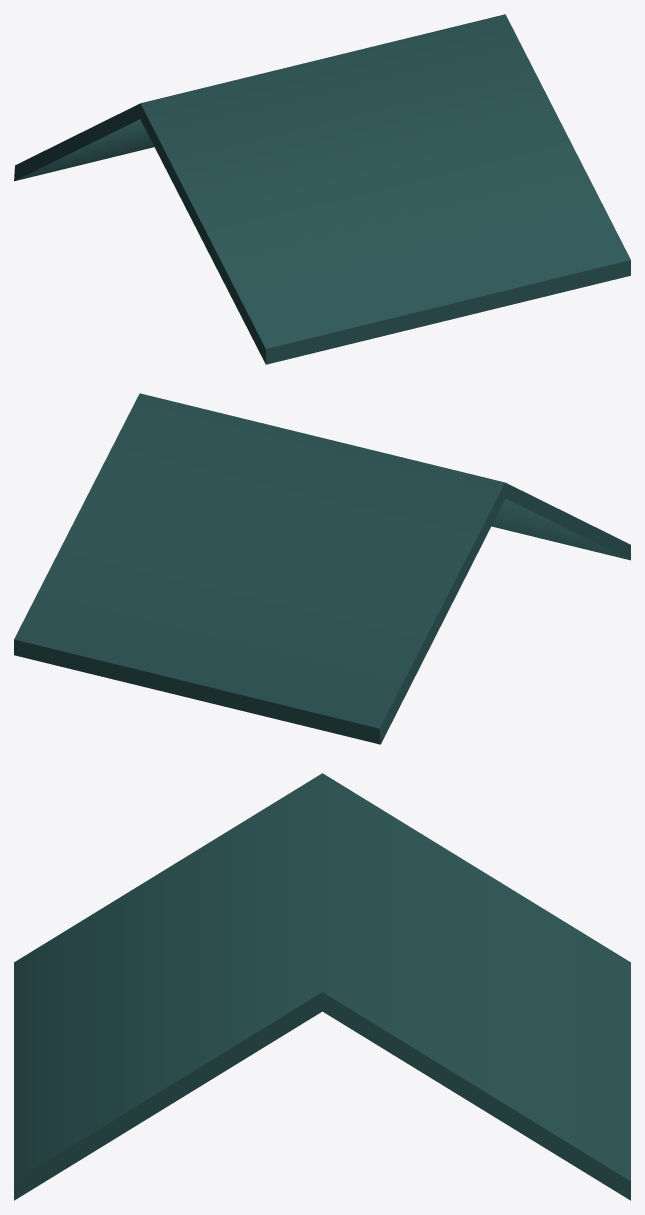
The model's file is techocasitaizq.obj.
3 views of the same model, one above another, from view 1: azimuth 30°, elevation 25°; view 2: azimuth 150°, elevation 25°; view 3: azimuth 270°, elevation 25° (orthographic). The views are drawn at different scales.
Parts seen in each view (by area): view 1: pasted__pCube12 group19; view 2: pasted__pCube12 group19; view 3: pasted__pCube12 group19.
Boxes of the visible parts, box(x1,y1,x2,y2) form: pasted__pCube12 group19: box(14, 14, 630, 364); pasted__pCube12 group19: box(14, 393, 630, 744); pasted__pCube12 group19: box(14, 773, 630, 1200).
Bounding box in the file's own units: 2.68 × 1.19 × 3.18.
Materials: 1 (1 with a texture image).
